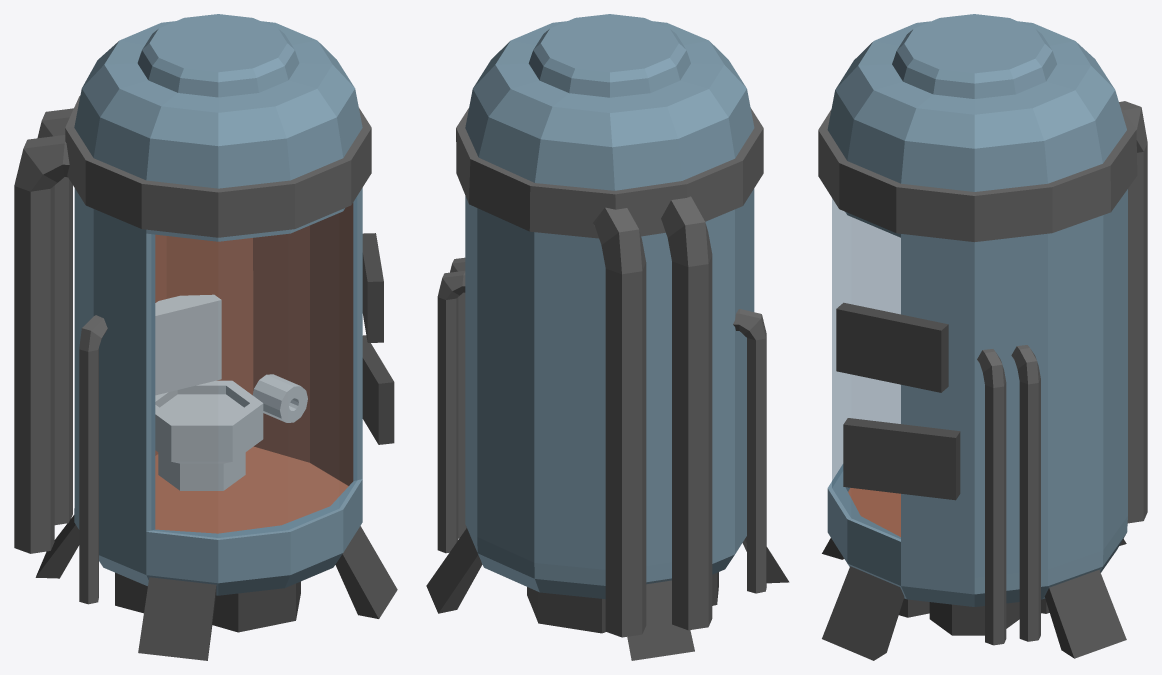
3 views of the same model, side by side, from view 1: azimuth 30°, elevation 25°; view 2: azimuth 150°, elevation 25°; view 3: azimuth 270°, elevation 25° (orthographic).
Visible parts, largest first — view 1: Cylinder, Cylinder.012, Cylinder.006, Cylinder.011, Cylinder.005, Cube.002, Cylinder.003, Cylinder.008, Cube, Cube.001, Cylinder.004, Cylinder.009; view 2: Cylinder, Cylinder.005, Cylinder.006, Cylinder.002, Cylinder.003, Cylinder.010, Cylinder.001; view 3: Cylinder, Cylinder.012, Cube, Cube.001, Cylinder.005, Cylinder.002, Cylinder.001, Cylinder.007.
Part boxes in pixels (x1,y1,x2,y2): Cylinder: [35, 14, 397, 660]; Cylinder.012: [151, 197, 356, 537]; Cylinder.006: [14, 135, 69, 553]; Cylinder.011: [155, 380, 263, 490]; Cylinder.005: [37, 108, 73, 525]; Cube.002: [155, 294, 221, 395]; Cylinder.003: [79, 315, 107, 604]; Cylinder.008: [212, 581, 300, 632]; Cube: [362, 335, 394, 444]; Cube.001: [362, 233, 383, 342]; Cylinder.004: [252, 374, 307, 422]; Cylinder.009: [115, 572, 147, 613]; Cylinder: [426, 14, 789, 660]; Cylinder.005: [593, 207, 646, 637]; Cylinder.006: [661, 196, 712, 630]; Cylinder.002: [437, 271, 465, 553]; Cylinder.003: [733, 309, 766, 593]; Cylinder.010: [527, 587, 605, 633]; Cylinder.001: [450, 257, 466, 538]; Cylinder: [818, 14, 1137, 660]; Cylinder.012: [832, 198, 900, 538]; Cube: [843, 418, 960, 500]; Cube.001: [836, 302, 948, 392]; Cylinder.005: [1119, 101, 1147, 523]; Cylinder.002: [1011, 345, 1040, 641]; Cylinder.001: [977, 349, 1006, 645]; Cylinder.007: [929, 602, 1019, 635].
Bounding box in the file's own units: 277 × 476 × 257.
